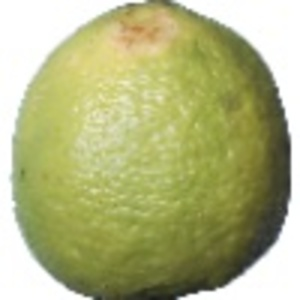limão: (9, 1, 290, 300)
